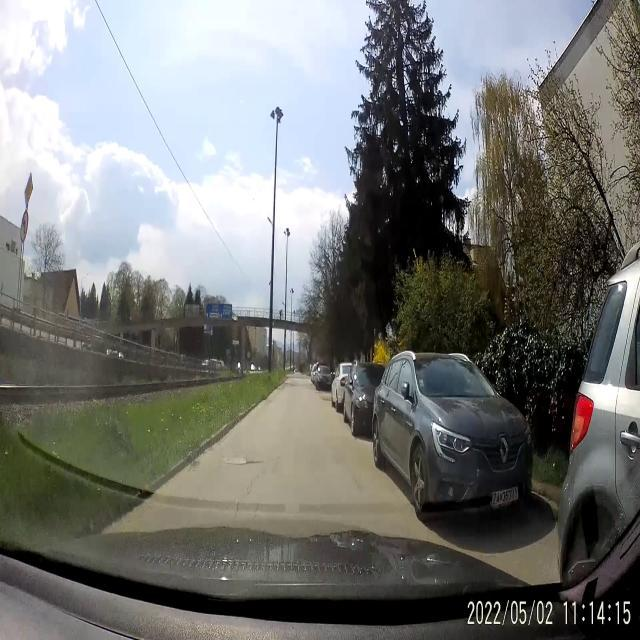Manhole: (222, 452, 254, 472)
